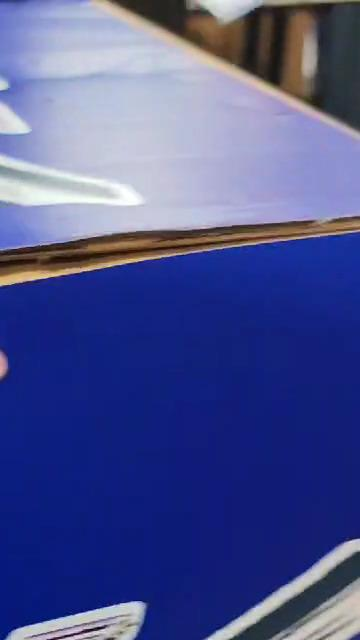B_R1: (0, 513, 353, 640)
